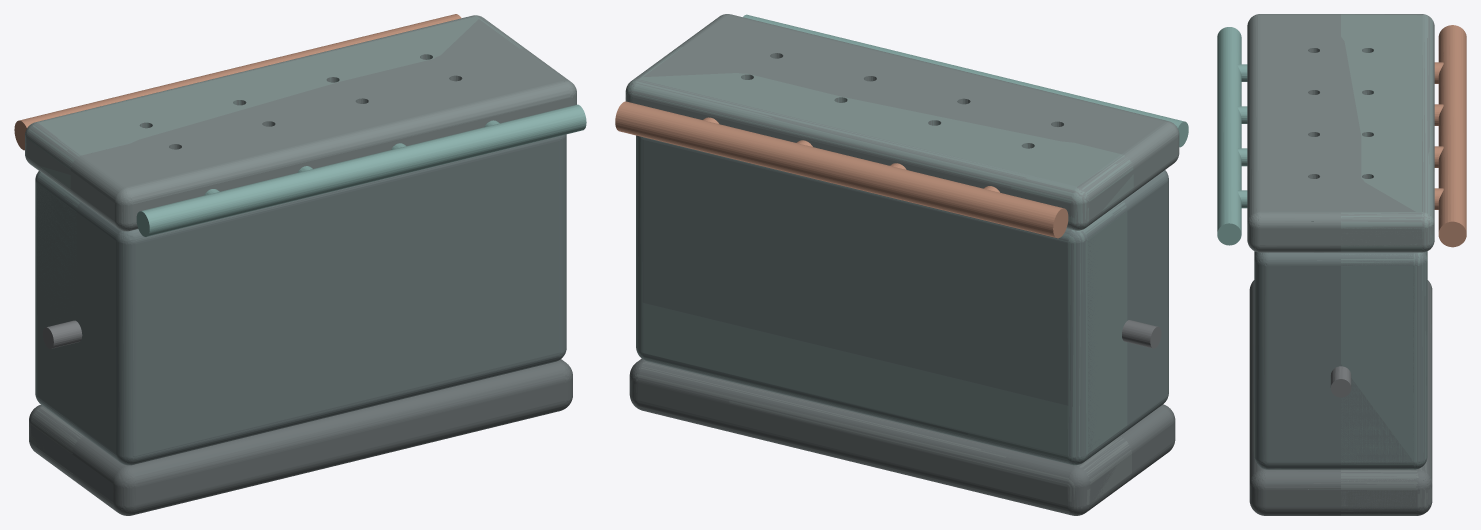
The model's file is inline-four-engine.glb.
3 renders of one model, left to right at view 1: azimuth 30°, elevation 25°; view 2: azimuth 150°, elevation 25°; view 3: azimuth 270°, elevation 25°, orthographic. The views are drawn at different scales.
Visible parts, largest first — view 1: BlockFull, HeadFull, SumpFull, HeadCutaway, IntakeManifold, ExhaustManifold, BlockCutaway, SumpCutaway, Crankshaft; view 2: BlockFull, BlockCutaway, HeadFull, SumpFull, HeadCutaway, ExhaustManifold, SumpCutaway, IntakeManifold, Crankshaft; view 3: HeadFull, BlockFull, HeadCutaway, BlockCutaway, SumpFull, ExhaustManifold, IntakeManifold, SumpCutaway, Crankshaft.
Boxes of the visible parts, box(x1,y1,x2,y2) form: BlockFull: box(35, 134, 566, 465); HeadFull: box(25, 15, 576, 231); SumpFull: box(29, 359, 572, 515); HeadCutaway: box(25, 15, 526, 195); IntakeManifold: box(136, 104, 586, 236); ExhaustManifold: box(14, 14, 461, 150); BlockCutaway: box(35, 171, 80, 431); SumpCutaway: box(29, 406, 83, 481); Crankshaft: box(42, 320, 82, 348); BlockFull: box(636, 135, 1168, 464); BlockCutaway: box(636, 136, 1127, 465); HeadFull: box(625, 14, 1179, 230); SumpFull: box(629, 359, 1175, 515); HeadCutaway: box(626, 47, 1133, 230); ExhaustManifold: box(615, 101, 1068, 238); SumpCutaway: box(629, 358, 1131, 515); IntakeManifold: box(743, 14, 1188, 147); Crankshaft: box(1122, 320, 1161, 348); HeadFull: box(1247, 14, 1434, 252); BlockFull: box(1254, 251, 1426, 469); HeadCutaway: box(1341, 14, 1434, 252); BlockCutaway: box(1341, 251, 1427, 469); SumpFull: box(1249, 280, 1432, 515); ExhaustManifold: box(1434, 25, 1466, 247); IntakeManifold: box(1217, 27, 1247, 245); SumpCutaway: box(1341, 284, 1432, 515); Crankshaft: box(1330, 366, 1351, 397).
Size of the model in its own units: 8.39 by 5.24 by 3.89.
